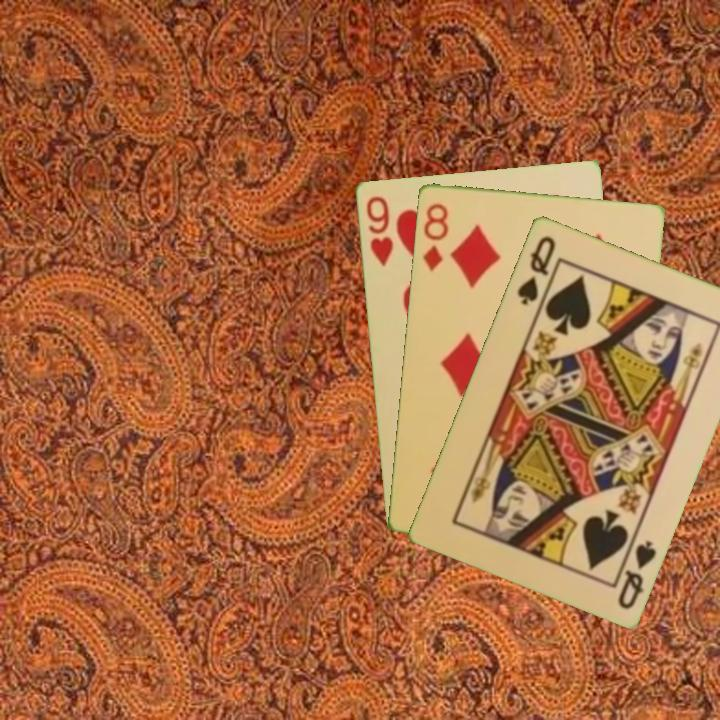8d: (419, 199, 451, 273)
9h: (362, 192, 396, 269)
Qs: (611, 530, 659, 612), (513, 232, 558, 308)
